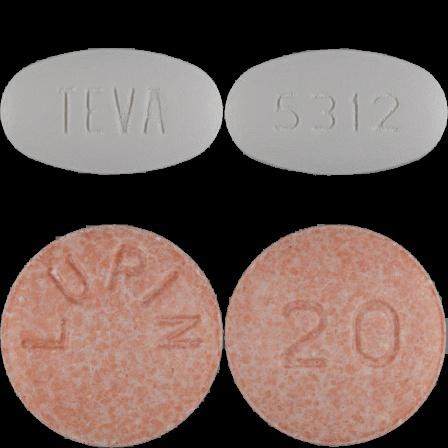0179-1982: (0, 0, 224, 224)
